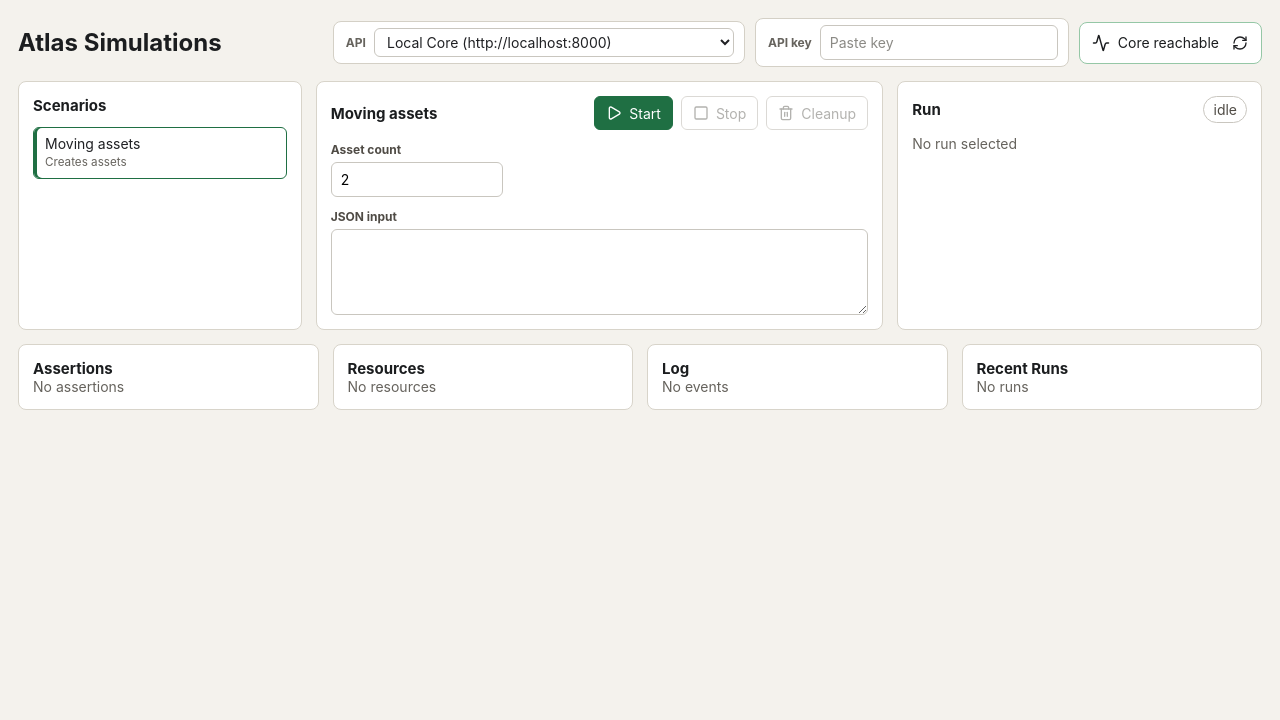
Test: App startup and forms › ignores the cancelled StrictMode target load instead of resetting the user's selection
This screenshot has width=1280, height=720.
Select "Atlas Command API (https://atlascommandapi.org)" in the dropdown labelled "API": (554, 42) [374,28,734,57]
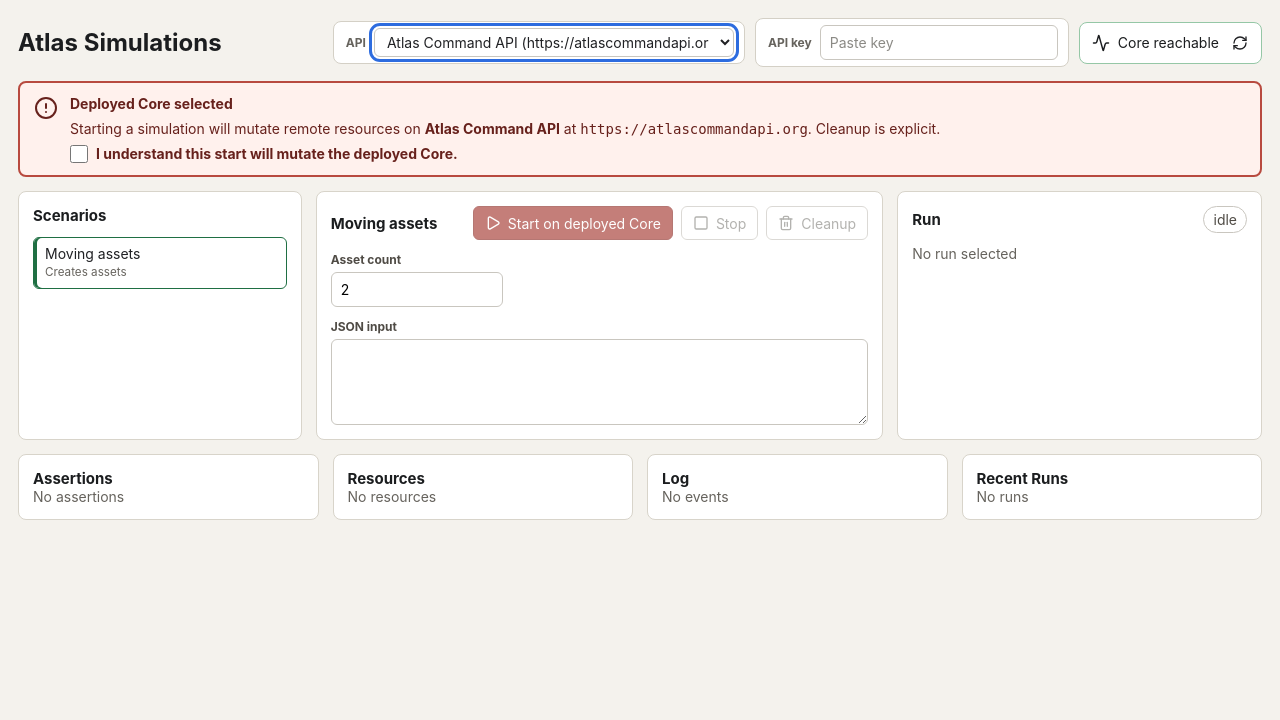
Now the message "Deployed Core selected" is shown, box [18,81,1262,177]
